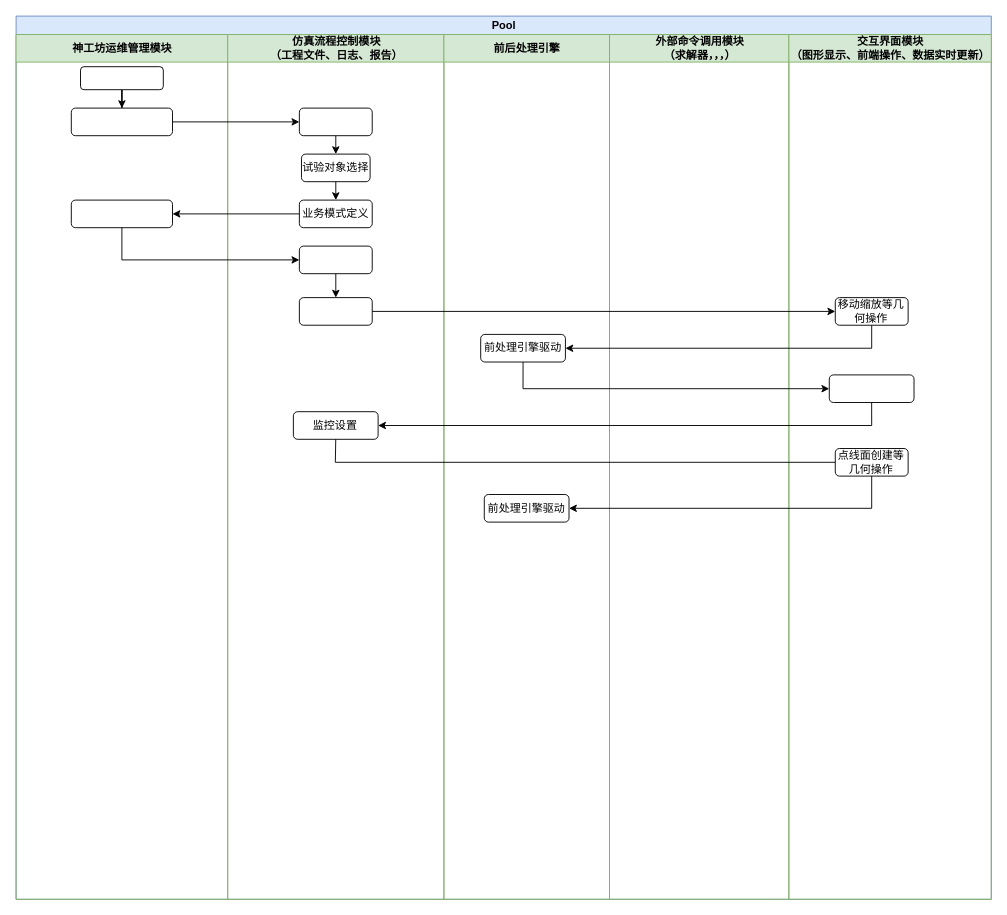
Image size: 1007x915. Some labels were removed from this diagram. Here are the shapes that lost their labels. From the top down, the centre of each, then its label:
pixel 121 78: 账户开通
pixel 121 121: 转正订阅使用
pixel 335 121: 导入工程文件
pixel 121 213: 工程文件保存至2.0用户指定路径
pixel 335 259: 几何导入
pixel 335 311: 模型安装功能
pixel 871 388: 数据实时更新
